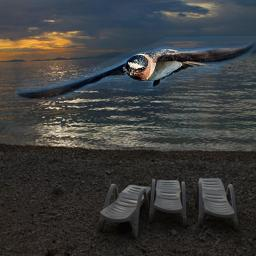Swallow: (15, 36, 256, 99)
